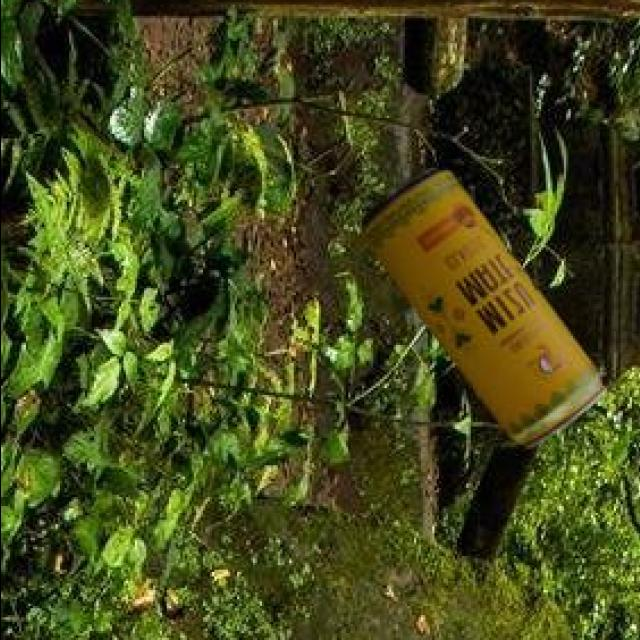logam: (364, 174, 609, 450)
